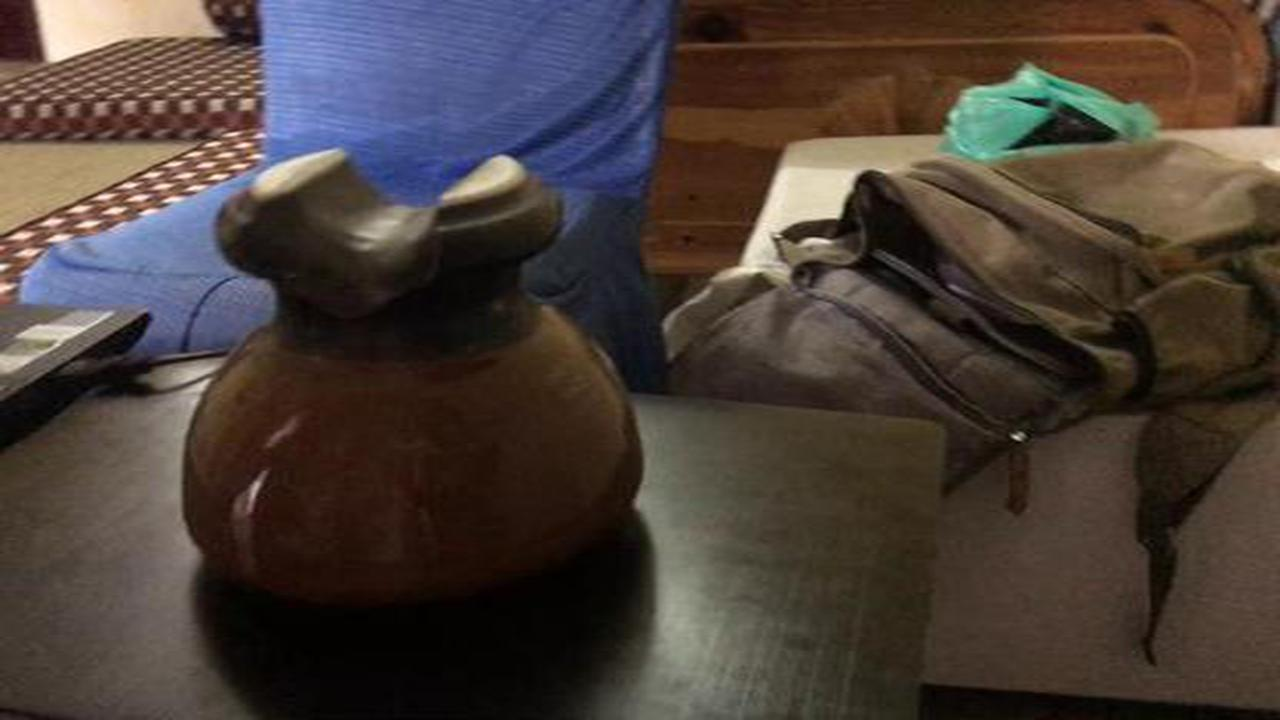insulator_pin: (165, 132, 665, 636)
